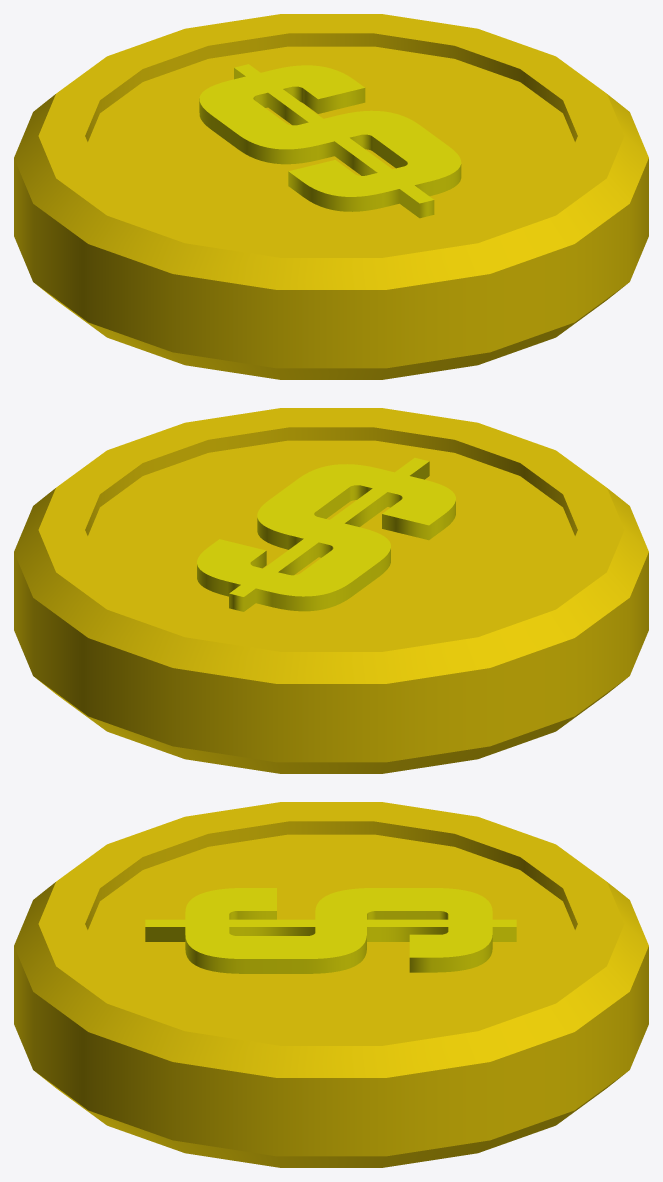
The model's file is coin_model_for_mixamo.fbx.
3 renders of one model, top to bottom at view 1: azimuth 30°, elevation 25°; view 2: azimuth 150°, elevation 25°; view 3: azimuth 270°, elevation 25°, orthographic.
Visible parts, largest first — view 1: Cylinder, Text; view 2: Cylinder, Text; view 3: Cylinder, Text.
Boxes of the visible parts, bbox=[...] form: Cylinder: bbox=[14, 14, 648, 379]; Text: bbox=[199, 64, 461, 218]; Cylinder: bbox=[14, 408, 648, 773]; Text: bbox=[197, 458, 455, 611]; Cylinder: bbox=[14, 802, 648, 1167]; Text: bbox=[145, 888, 516, 973].
Size of the model in its own units: 197 by 43.01 by 200.
